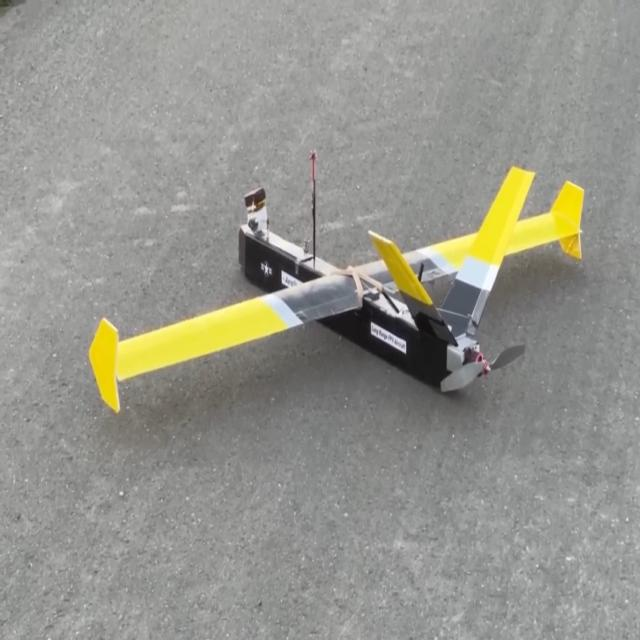iha: (86, 151, 587, 410)
